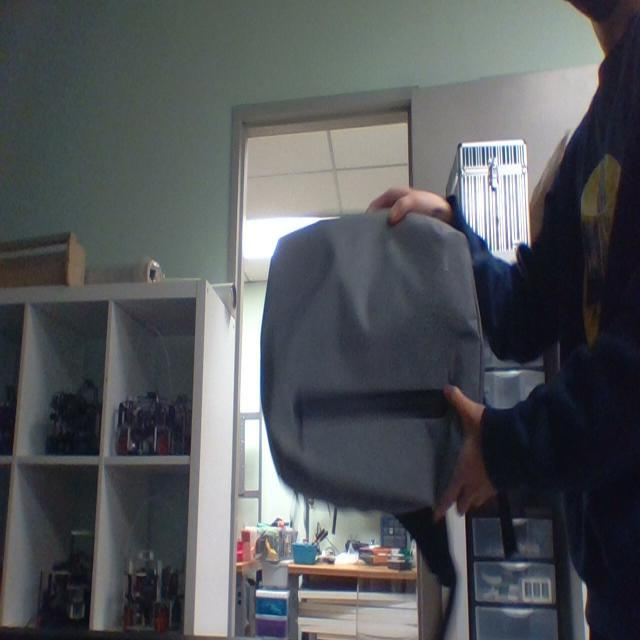Backpacks: (261, 197, 494, 505)
